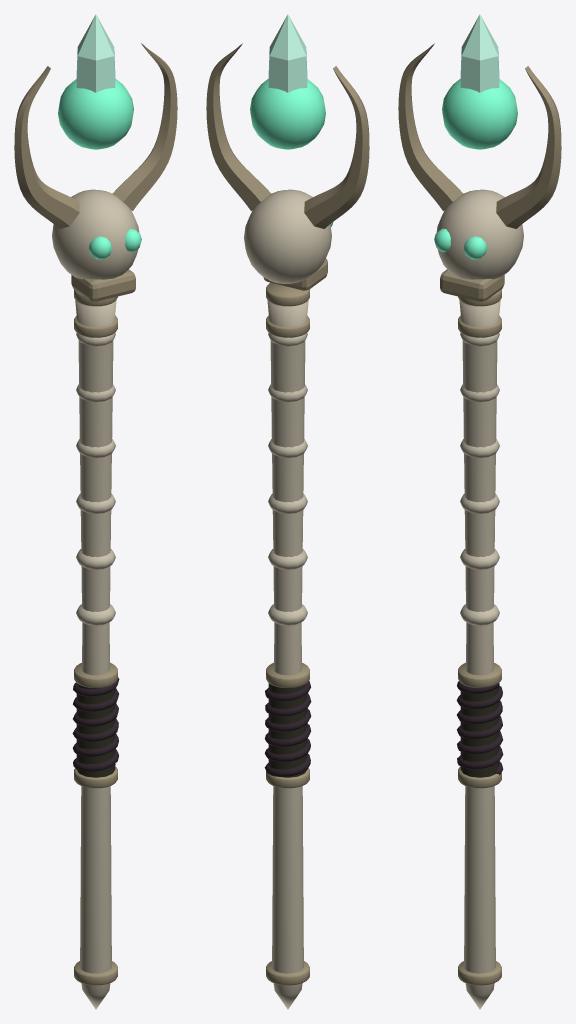
The model's file is staff_bone.fbx.
The picture shows the model from 3 angles, left to right: view 1: azimuth 30°, elevation 25°; view 2: azimuth 150°, elevation 25°; view 3: azimuth 330°, elevation 25°; orthographic projection.
Visible parts, largest first — view 1: staff_bone; view 2: staff_bone; view 3: staff_bone.
Part boxes in pixels (x1=…): staff_bone: x1=14, y1=14, x2=177, y2=1009; staff_bone: x1=206, y1=14, x2=369, y2=1009; staff_bone: x1=398, y1=14, x2=561, y2=1009.
Size of the model in its own units: 0.2451 by 1.43 by 0.128.
